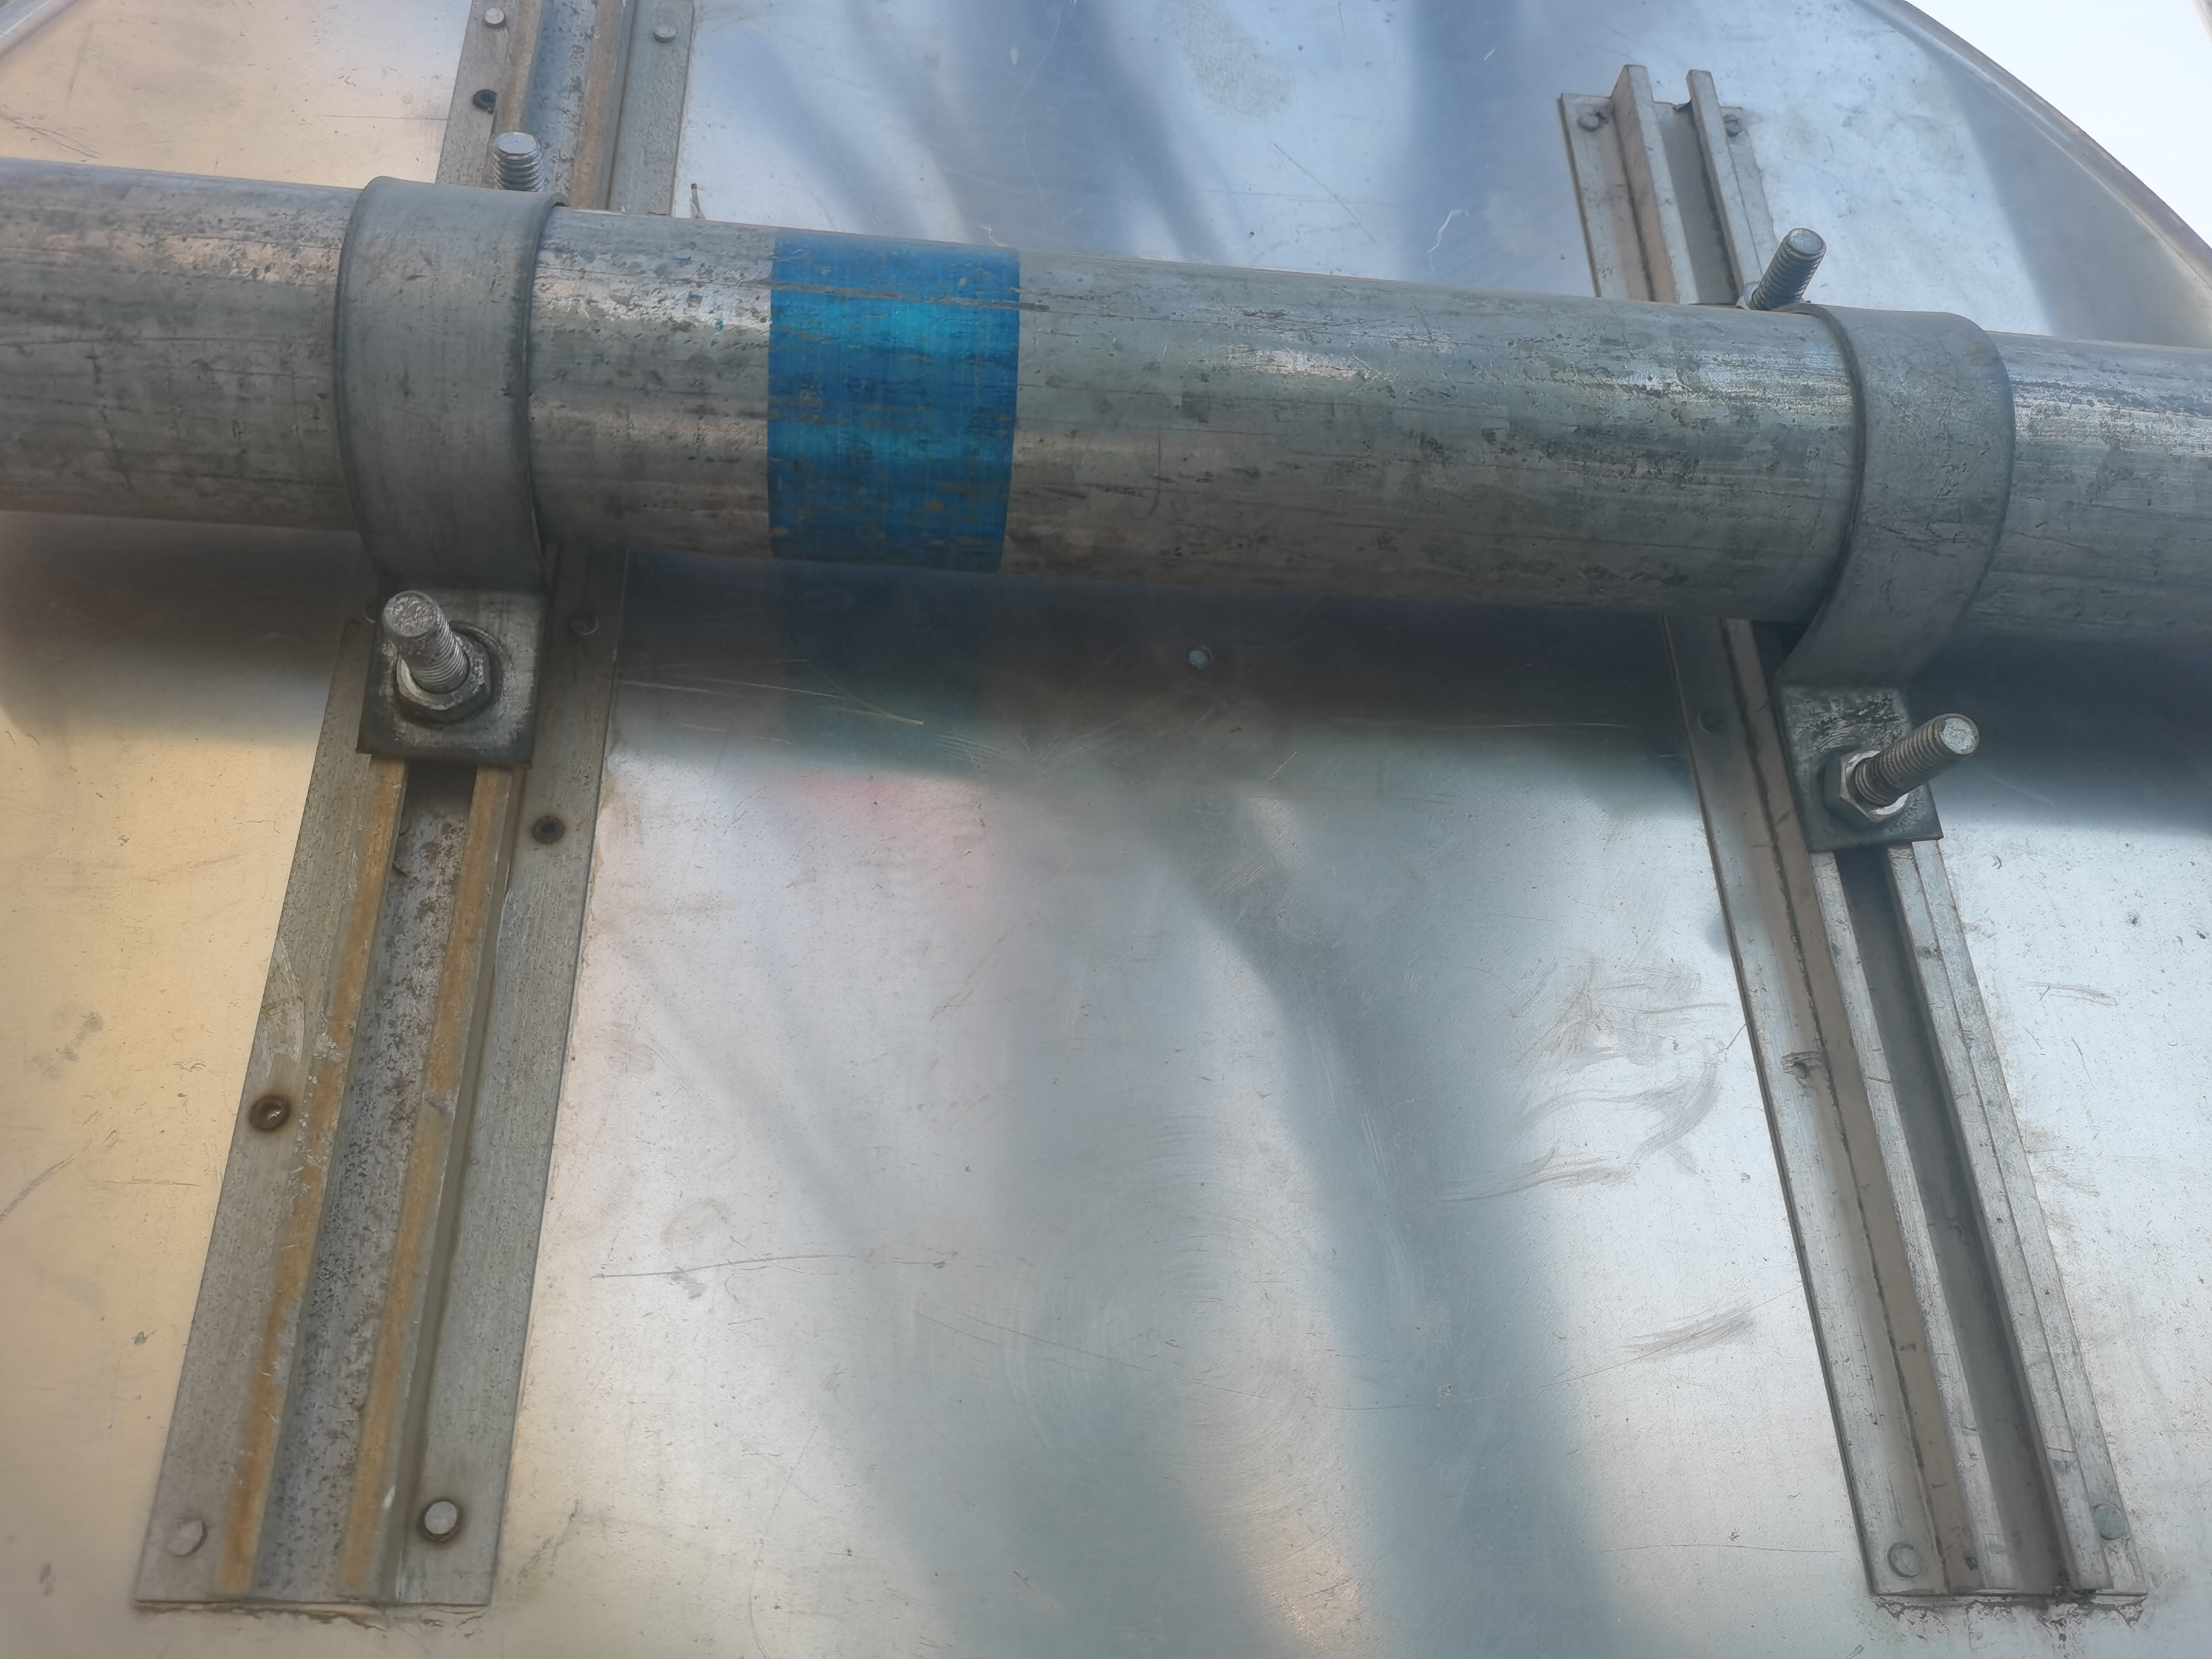bolt_b: (392, 624, 502, 725), (1817, 737, 1916, 836)
